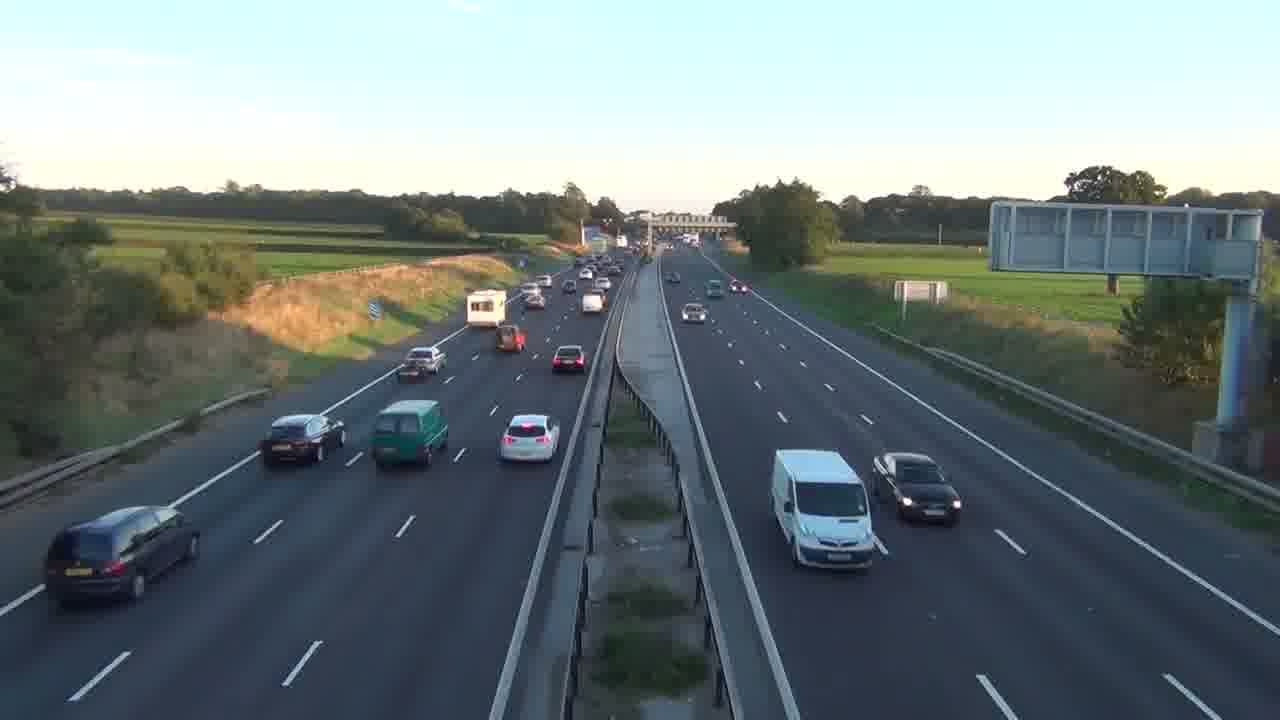bus: (368, 398, 450, 468)
car: (872, 450, 964, 525), (498, 413, 560, 463), (551, 344, 586, 374), (681, 302, 707, 323)
truck: (43, 503, 201, 608), (769, 447, 888, 570), (368, 398, 450, 468), (258, 413, 346, 466), (465, 289, 506, 328)
